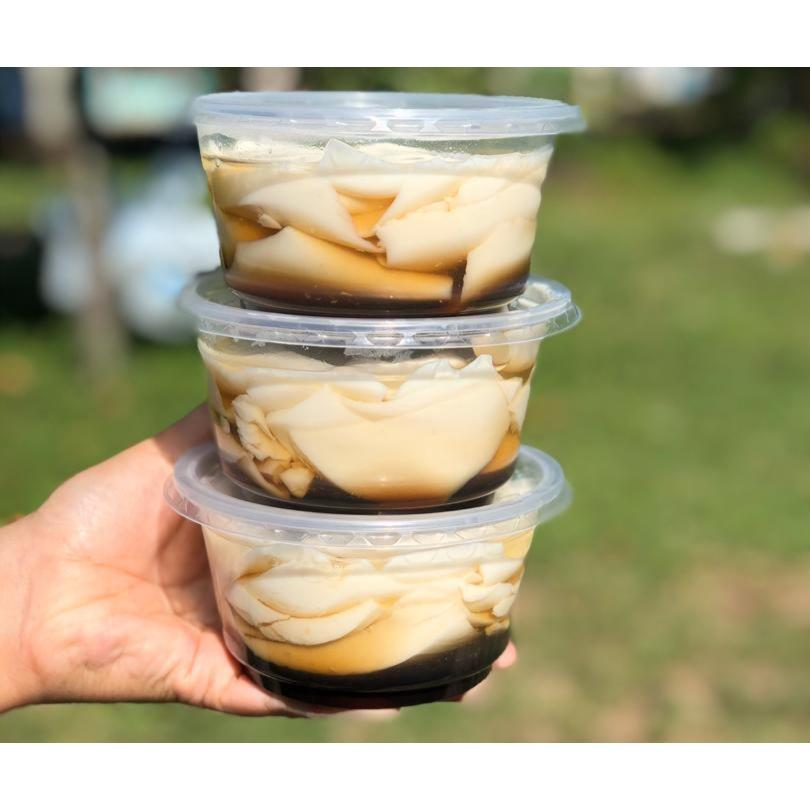plastic: (166, 270, 580, 710), (195, 91, 584, 315)
